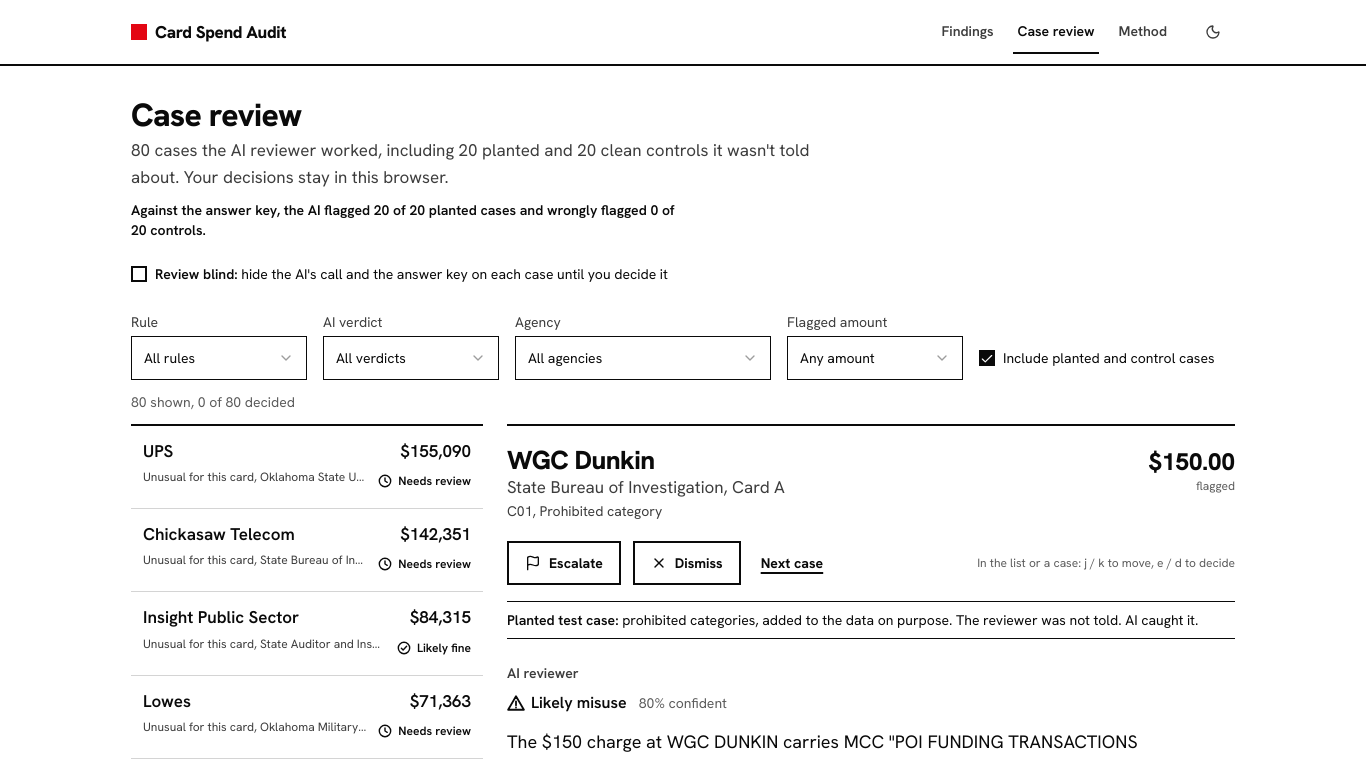
Scenario: pages › case review lists every case and opens one
Expected: the heading "Case review" is shown, [131,94,302,136]
Expected: the text "C01, Prohibited category" is shown, [507,502,662,520]
Click the button "Escalate".
click(564, 563)  # box [507,541,621,585]
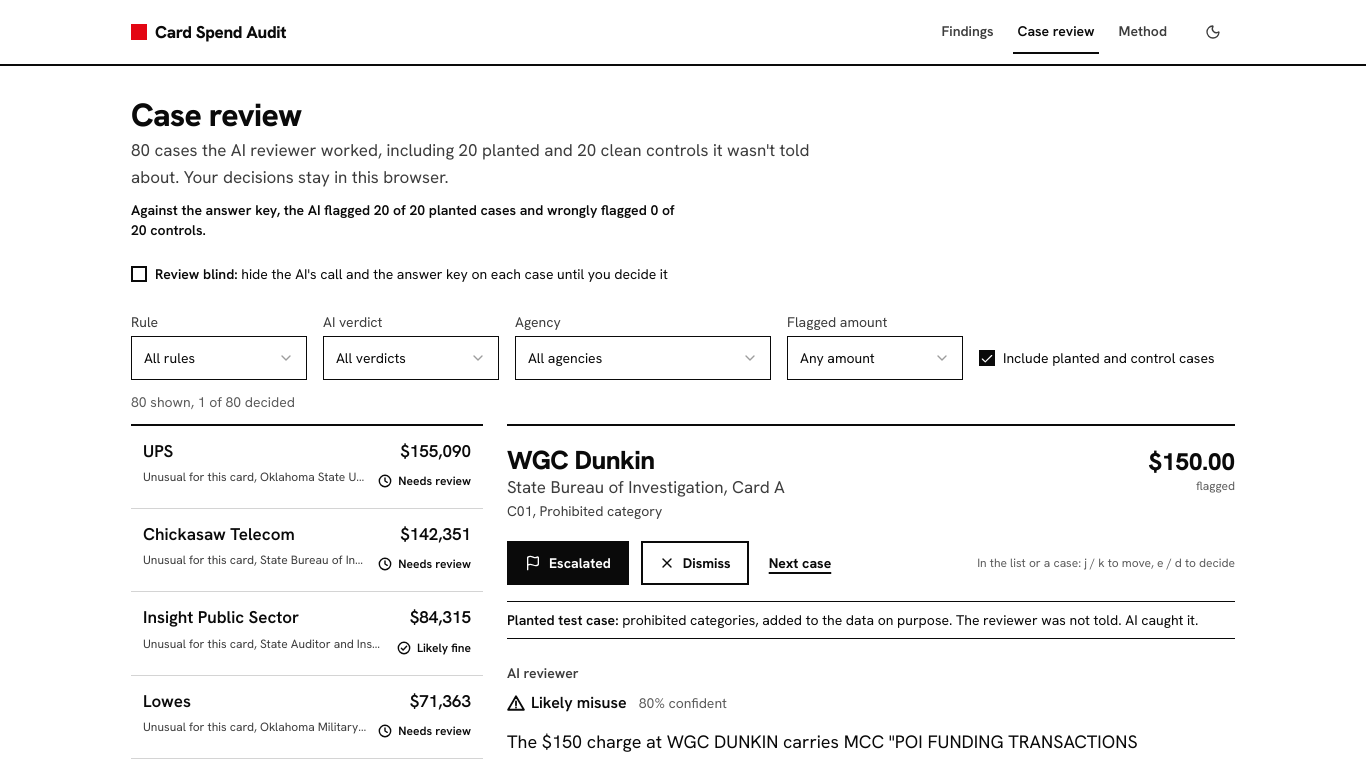
Result: the button "Escalated" is shown at [507,541,629,585]
